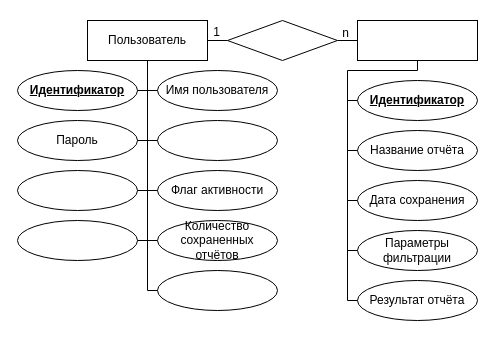
This 495x338 diagram has some shape labels left out. The box of each missing label's shape, as (x1, y1, x2, y2) in pixels:
Адрес электронной почты: (156, 120, 278, 160)
Дата последнего входа: (16, 220, 138, 260)
Имеет: (226, 20, 338, 60)
Полное имя: (16, 170, 138, 210)
Сохраненный отчёт: (356, 20, 478, 60)
Флаг ETL-пользователя: (156, 270, 278, 310)
